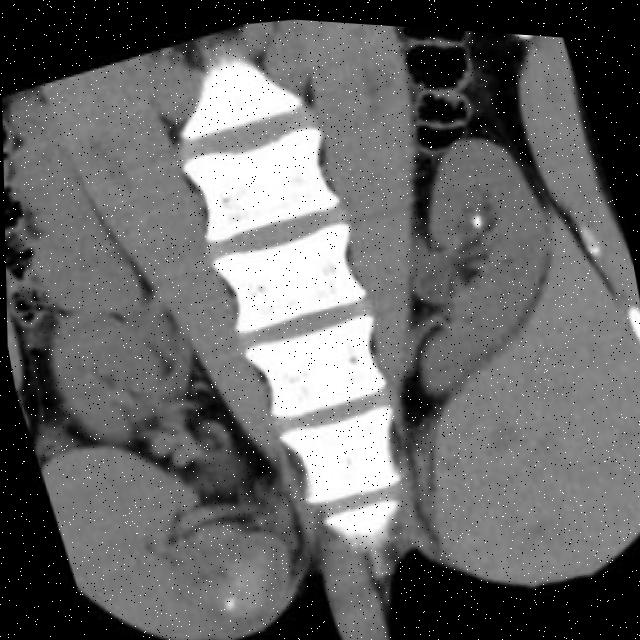Tas_Var: (459, 192, 495, 238)
